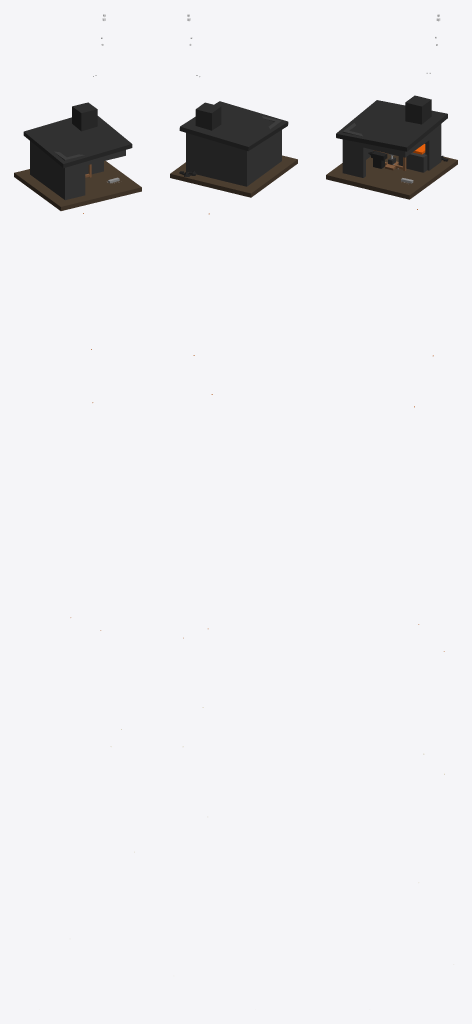
Rendered from blacksmith_armory.glb.
3 renders of one model, left to right at view 1: azimuth 30°, elevation 25°; view 2: azimuth 150°, elevation 25°; view 3: azimuth 330°, elevation 25°, orthographic. The views are drawn at different scales.
Visible parts, largest first — view 1: Roof, Foundation, LeftWall, FrontWallLeft, Chimney; view 2: Roof, BackWall, Foundation, LeftWall, Chimney; view 3: Roof, Foundation, FrontWallLeft, Chimney, RightWallBack, ForgeBase.
Boxes of the visible parts, x1=… form: Roof: x1=23, y1=116, x2=132, y2=168; Foundation: x1=14, y1=161, x2=141, y2=210; LeftWall: x1=30, y1=143, x2=69, y2=200; FrontWallLeft: x1=62, y1=154, x2=85, y2=199; Chimney: x1=72, y1=102, x2=97, y2=131; Roof: x1=179, y1=101, x2=288, y2=151; BackWall: x1=186, y1=133, x2=249, y2=186; Foundation: x1=170, y1=155, x2=297, y2=197; LeftWall: x1=242, y1=120, x2=281, y2=185; Chimney: x1=195, y1=102, x2=221, y2=130; Roof: x1=336, y1=100, x2=447, y2=151; Foundation: x1=326, y1=153, x2=457, y2=199; FrontWallLeft: x1=343, y1=130, x2=365, y2=177; Chimney: x1=405, y1=95, x2=431, y2=124; RightWallBack: x1=425, y1=124, x2=441, y2=170; ForgeBase: x1=398, y1=152, x2=427, y2=172.
Size of the model in its own units: 4.09 by 46.19 by 4.92.
